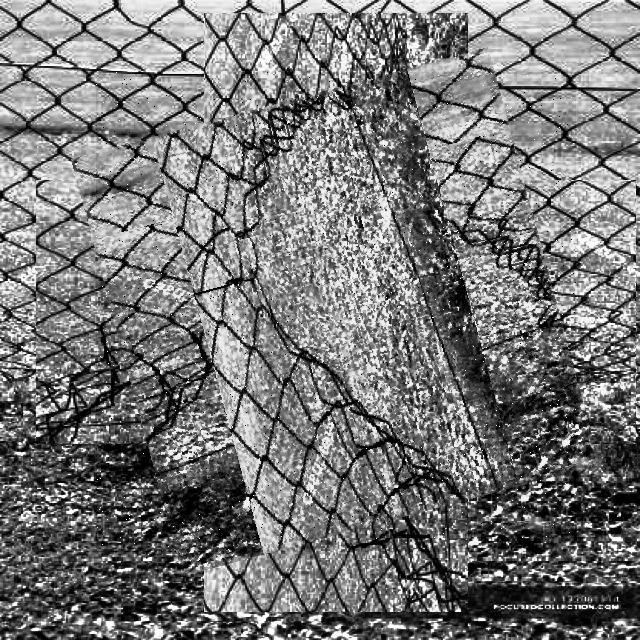anomaly-fence: (96, 72, 576, 552)
